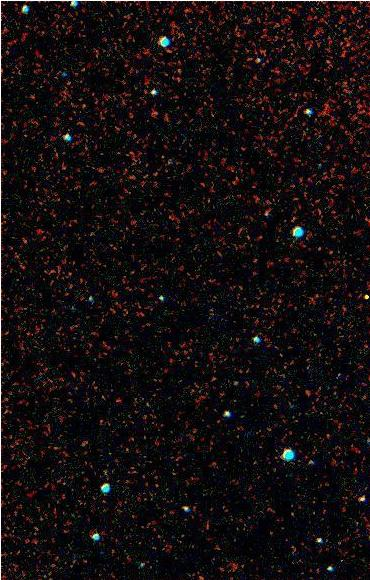star: (343, 281, 370, 311)
